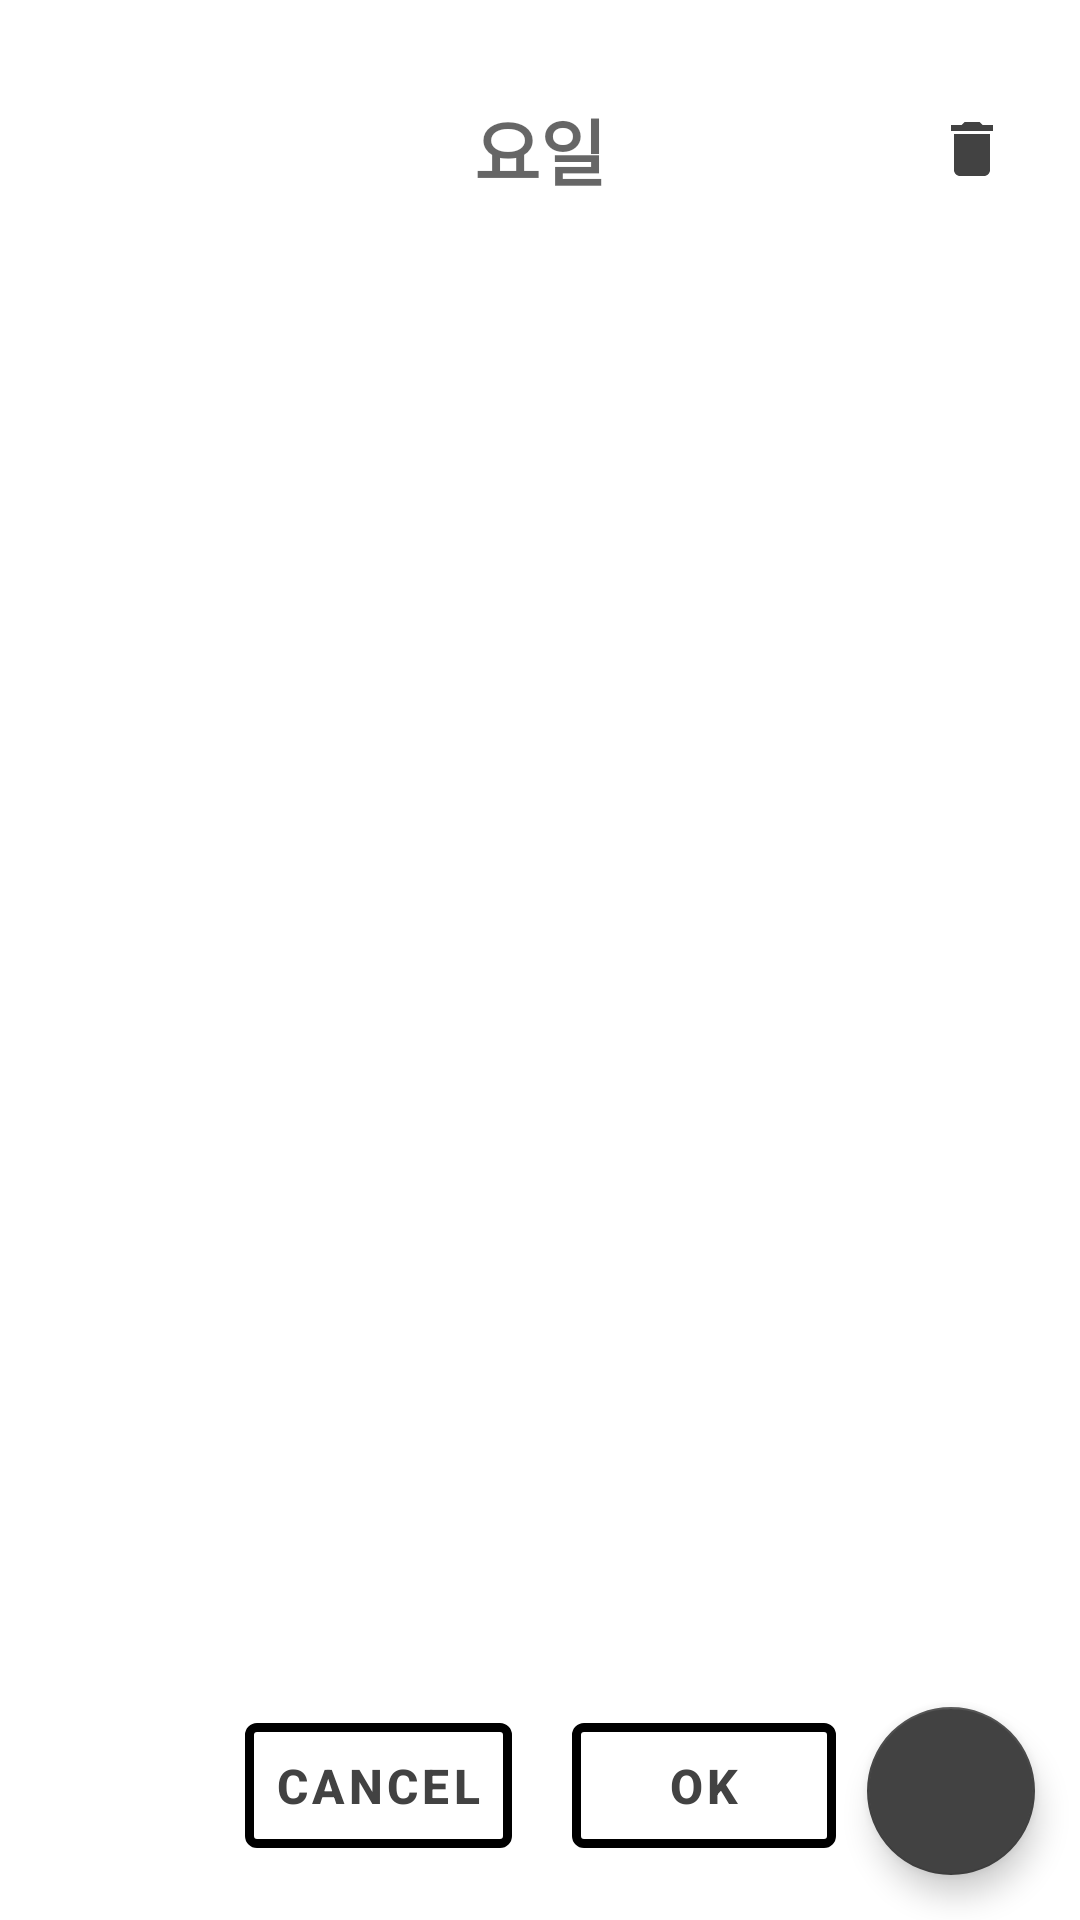

Named icons in this screenshot (1080 × 1920) and their bounding boxes, (x1, y1, x2, y2):
delete: (951, 122, 993, 176)
